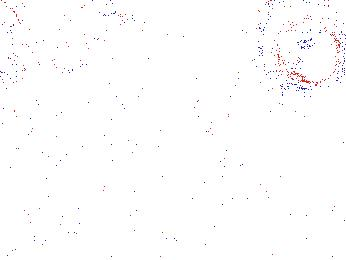moon jellyfish: (250, 1, 346, 90), (88, 12, 143, 101), (127, 1, 223, 42), (9, 7, 103, 44), (1, 1, 32, 83)
